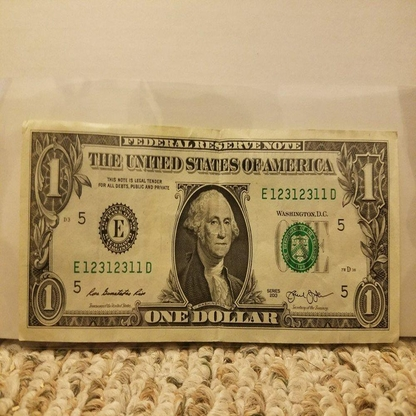one-front: (10, 120, 406, 343)
